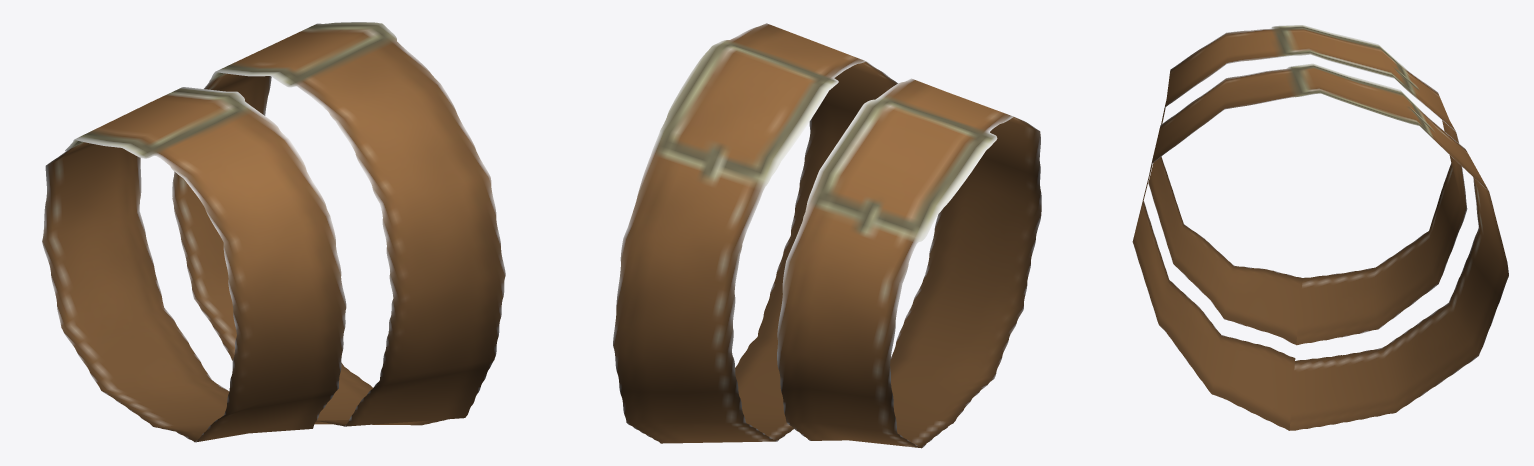
The model's file is LAS_1_Lower-arm_R.obj.
The picture shows the model from 3 angles, left to right: view 1: azimuth 30°, elevation 25°; view 2: azimuth 150°, elevation 25°; view 3: azimuth 270°, elevation 25°; orthographic projection. The views are drawn at different scales.
Parts seen in each view (by area): view 1: Knight.016_proxy741.obj.012; view 2: Knight.016_proxy741.obj.012; view 3: Knight.016_proxy741.obj.012.
Boxes of the visible parts, <box> form: Knight.016_proxy741.obj.012: <box>42,22,505,442</box>; Knight.016_proxy741.obj.012: <box>613,23,1041,448</box>; Knight.016_proxy741.obj.012: <box>1132,25,1508,430</box>.
Size of the model in its own units: 0.1402 by 0.1455 by 0.1526.
